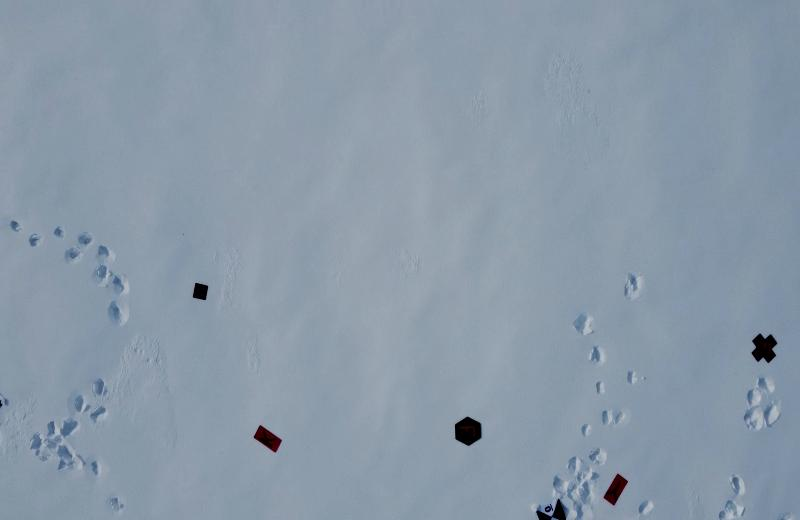Cross: (747, 326, 781, 366)
Hexagon: (454, 414, 488, 451)
Rectangle: (252, 418, 286, 453), (604, 470, 629, 510)
Square: (190, 278, 213, 303)
